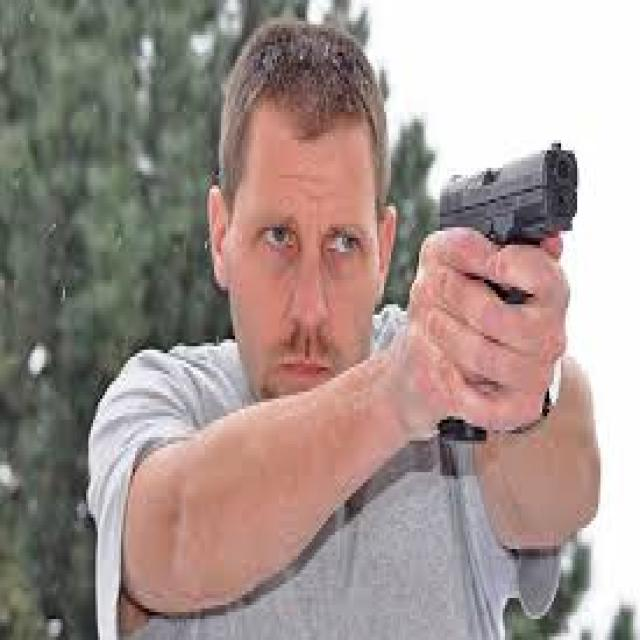Gun: (431, 147, 604, 291)
